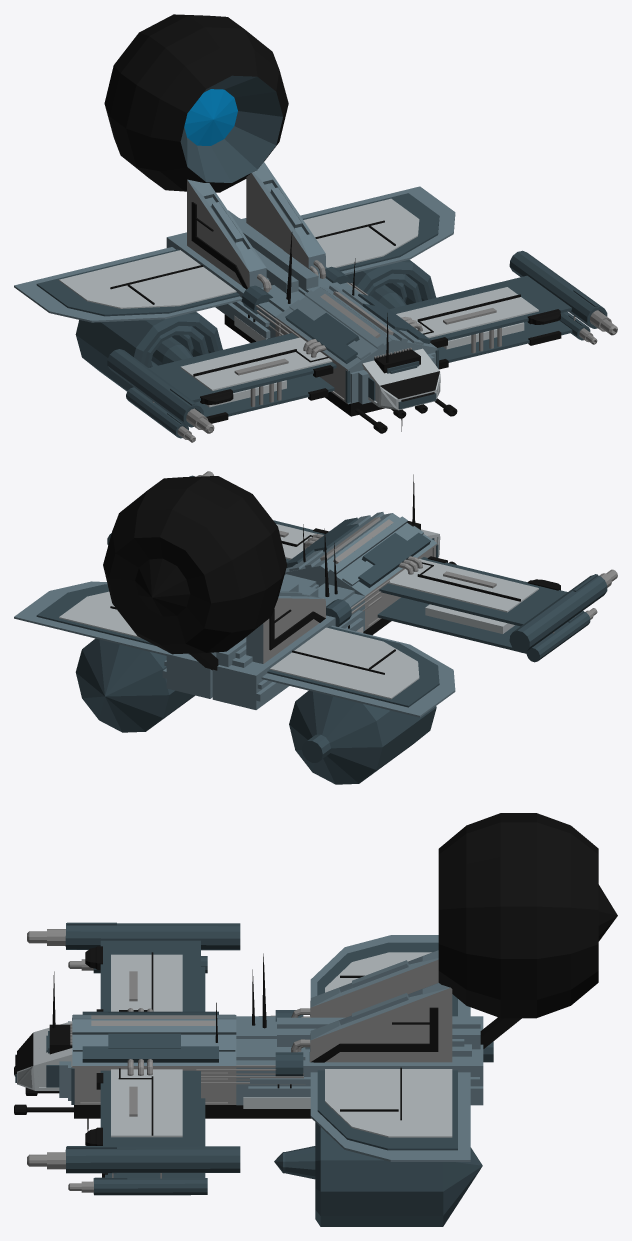
Rendered from SpaceShip _ #1.glb.
3 views of the same model, one above another, from view 1: azimuth 30°, elevation 25°; view 2: azimuth 150°, elevation 25°; view 3: azimuth 270°, elevation 25° (orthographic). The views are drawn at different scales.
Parts seen in each view (by area): view 1: node_MeshObject1569052416-PolyPaper23, node_MeshObject-1688474752-PolyPaper17; view 2: node_MeshObject1569052416-PolyPaper23, node_MeshObject-1688474752-PolyPaper17; view 3: node_MeshObject1569052416-PolyPaper23, node_MeshObject-1688474752-PolyPaper17.
Boxes of the visible parts, x1,y1,x2,y2 form: node_MeshObject1569052416-PolyPaper23: (59,14,617,442); node_MeshObject-1688474752-PolyPaper17: (14,186,455,438); node_MeshObject1569052416-PolyPaper23: (36,471,607,732); node_MeshObject-1688474752-PolyPaper17: (14,517,617,784); node_MeshObject1569052416-PolyPaper23: (14,813,617,1226); node_MeshObject-1688474752-PolyPaper17: (14,922,493,1161).
Bounding box in the file's own units: 3.21 × 2.17 × 3.5.
